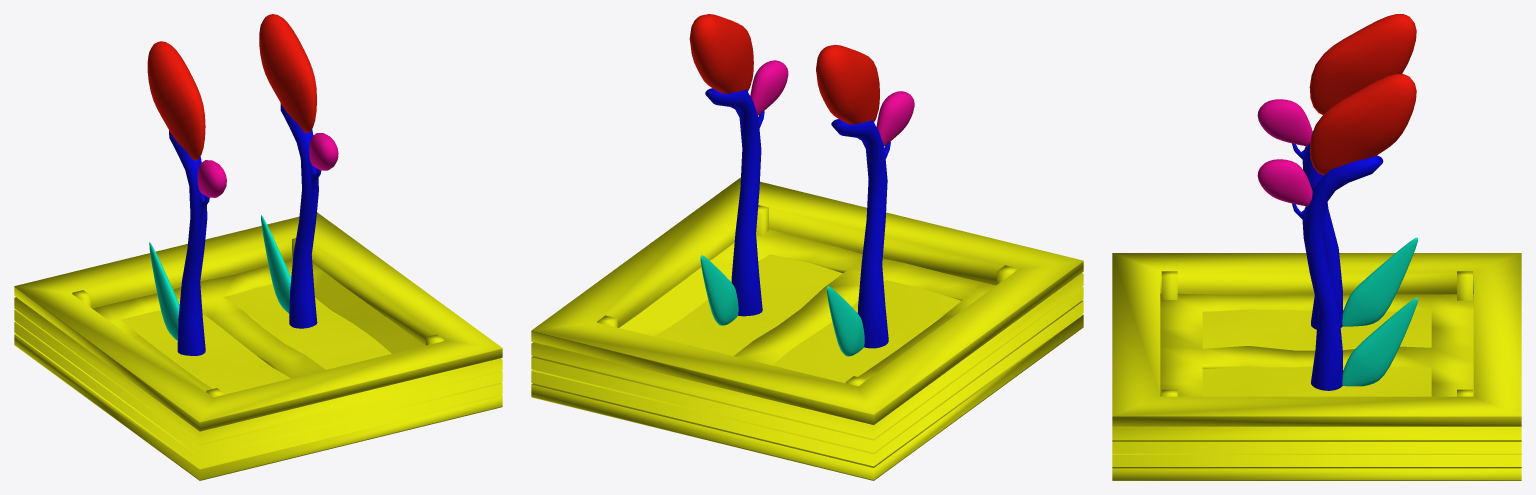
Rendered from alienplantsInPlanterTESTPICKING.fbx.
3 views of the same model, side by side, from view 1: azimuth 30°, elevation 25°; view 2: azimuth 150°, elevation 25°; view 3: azimuth 270°, elevation 25° (orthographic). The views are drawn at different scales.
Parts seen in each view (by area): view 1: Cube.006, Cube.002, Cube.009, Cylinder.001, Cylinder.002, Cube.007, Cube.010, Cube.001, Cube.008; view 2: Cube.006, Cylinder.001, Cylinder.002, Cube.009, Cube.002, Cube.007, Cube.010, Cube.001, Cube.008; view 3: Cube.006, Cube.009, Cube.002, Cylinder.002, Cube.010, Cube.007, Cube.008, Cube.001, Cylinder.001.
Boxes of the visible parts, x1,y1,x2,y2 form: Cube.006: (14,212,502,480); Cube.002: (147,41,205,160); Cube.009: (259,14,316,133); Cylinder.001: (169,130,209,355); Cylinder.002: (280,103,321,328); Cube.007: (149,242,179,340); Cube.010: (261,215,291,313); Cube.001: (197,160,226,197); Cube.008: (309,133,338,170); Cube.006: (531,177,1083,480); Cylinder.001: (831,119,890,348); Cylinder.002: (705,88,764,316); Cube.009: (689,14,753,93); Cube.002: (816,44,879,124); Cube.007: (827,286,864,356); Cube.010: (700,255,738,325); Cube.001: (876,91,914,146); Cube.008: (750,60,788,115); Cube.006: (1112,253,1521,480); Cube.009: (1309,74,1416,175); Cube.002: (1309,14,1416,114); Cylinder.002: (1292,155,1383,390); Cube.010: (1342,297,1417,386); Cube.007: (1342,237,1417,326); Cube.008: (1257,159,1312,206); Cube.001: (1257,99,1312,146); Cylinder.001: (1292,143,1343,329).
Bounding box in the file's own units: 288 × 291 × 306.
